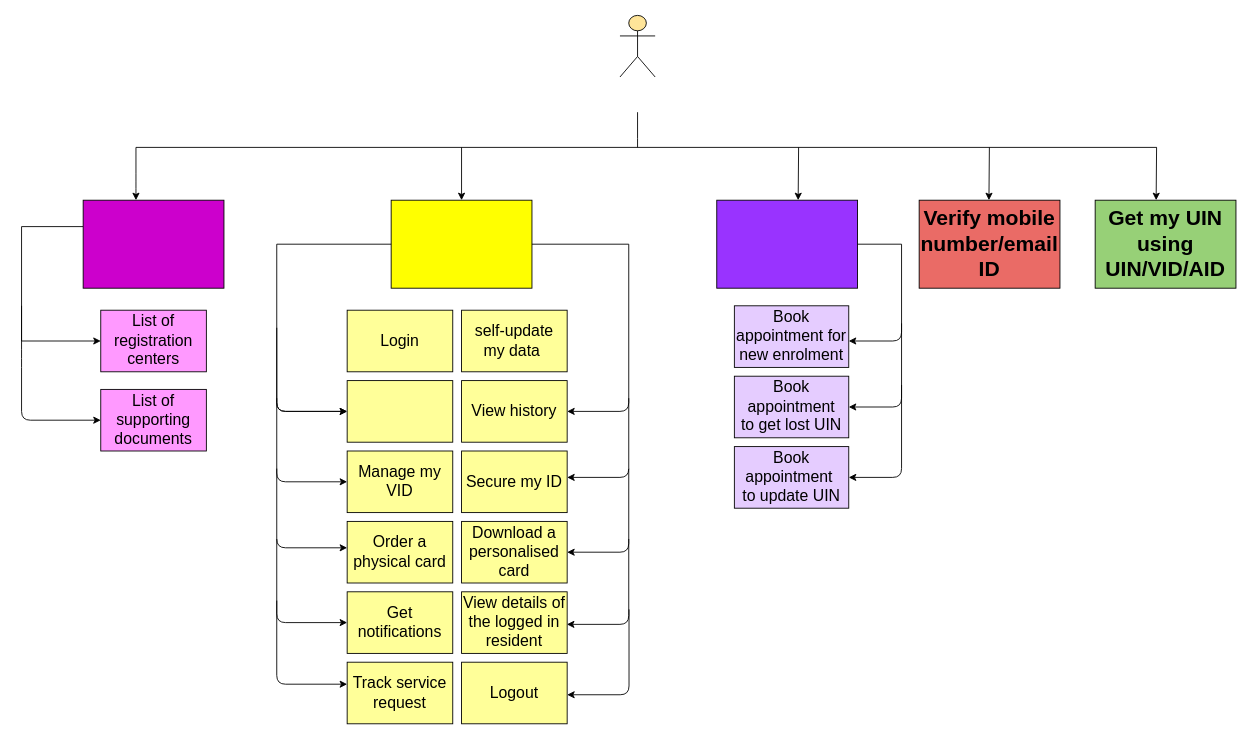
Image size: 1251x739. Some labels were removed from this diagram. Here are the shapes that lost their labels. From the top down, the box of each, then its label:
(619, 15, 655, 77): The resident
(82, 199, 224, 288): Get information
(390, 199, 532, 288): UIN services
(716, 199, 858, 288): Book an appointment
(346, 380, 453, 442): Share credential will a partner
